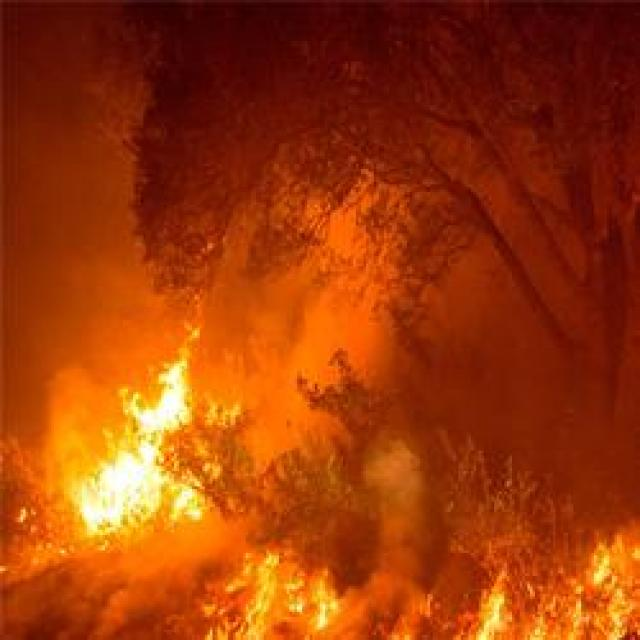fire: (200, 518, 634, 640), (46, 318, 228, 541)
